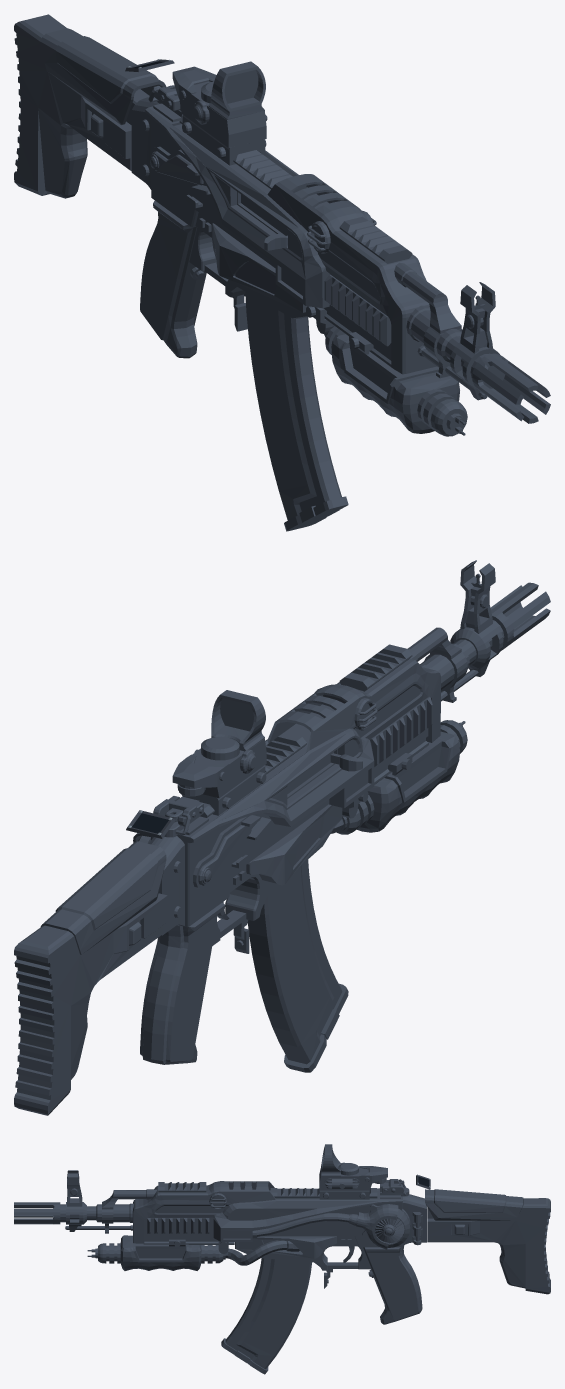
The model's file is valkyrie_diegetic.obj.
3 renders of one model, top to bottom at view 1: azimuth 30°, elevation 25°; view 2: azimuth 150°, elevation 25°; view 3: azimuth 270°, elevation 25°, orthographic. The views are drawn at different scales.
Parts seen in each view (by area): view 1: valkyrie_Diegetic; view 2: valkyrie_Diegetic; view 3: valkyrie_Diegetic.
Part boxes in pixels (x1,y1,x2,y2): valkyrie_Diegetic: (14,14,550,531); valkyrie_Diegetic: (14,560,550,1115); valkyrie_Diegetic: (14,1144,550,1374).
Size of the model in its own units: 7.53 by 30.61 by 66.7.
